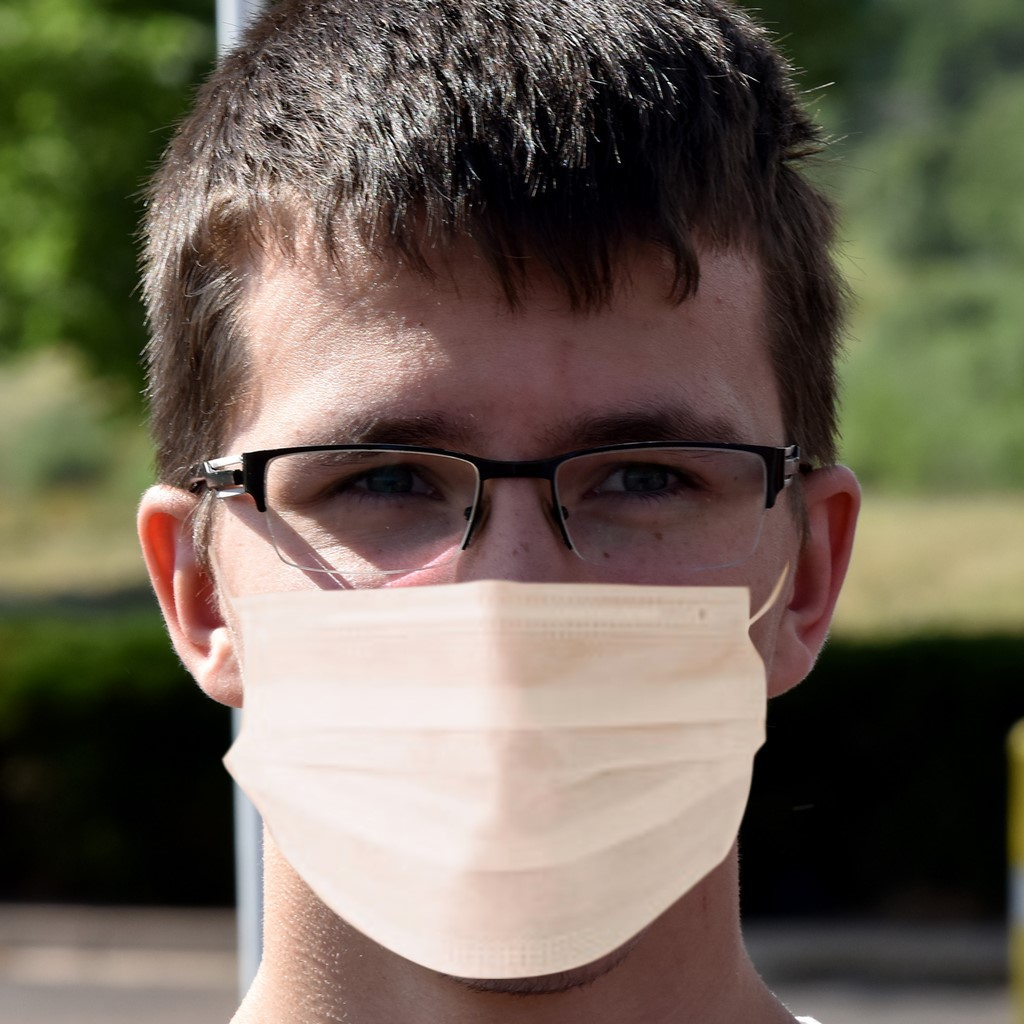con_mascara: (151, 109, 814, 1000)
